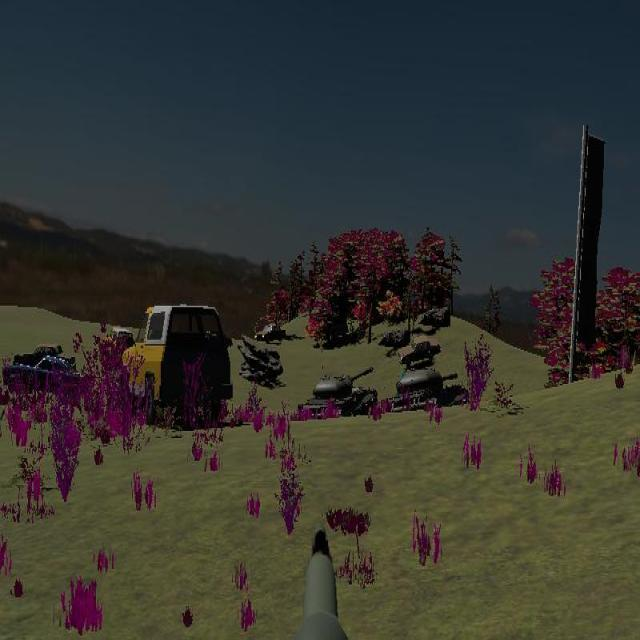Tank: (298, 366, 378, 430), (386, 367, 468, 429)
car: (120, 300, 233, 418), (3, 347, 92, 398), (400, 334, 442, 369)
